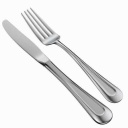fork: (16, 6, 128, 117)
